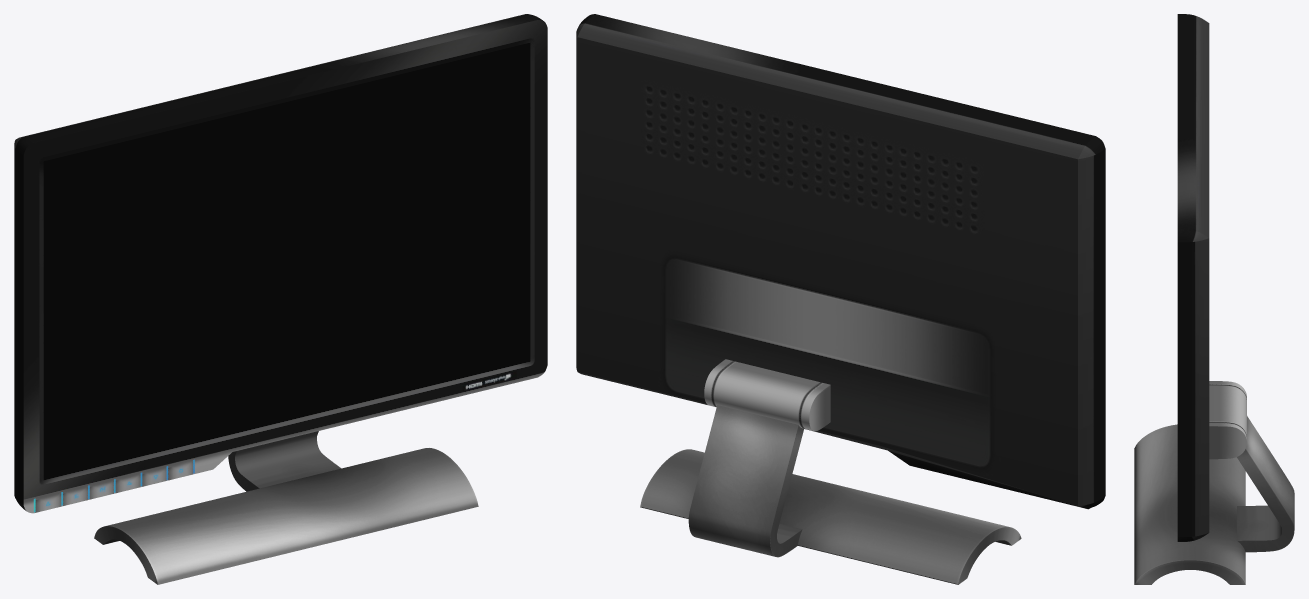
The model's file is pc_monitor.dae.
3 views of the same model, side by side, from view 1: azimuth 30°, elevation 25°; view 2: azimuth 150°, elevation 25°; view 3: azimuth 270°, elevation 25° (orthographic). The views are drawn at different scales.
Visible parts, largest first — view 1: pc_monitor_body; view 2: pc_monitor_body; view 3: pc_monitor_body.
Boxes of the visible parts, bbox=[...] form: pc_monitor_body: bbox=[14, 14, 547, 584]; pc_monitor_body: bbox=[576, 14, 1105, 584]; pc_monitor_body: bbox=[1134, 14, 1294, 584].
Size of the model in its own units: 0.6585 by 0.5385 by 0.1996.
